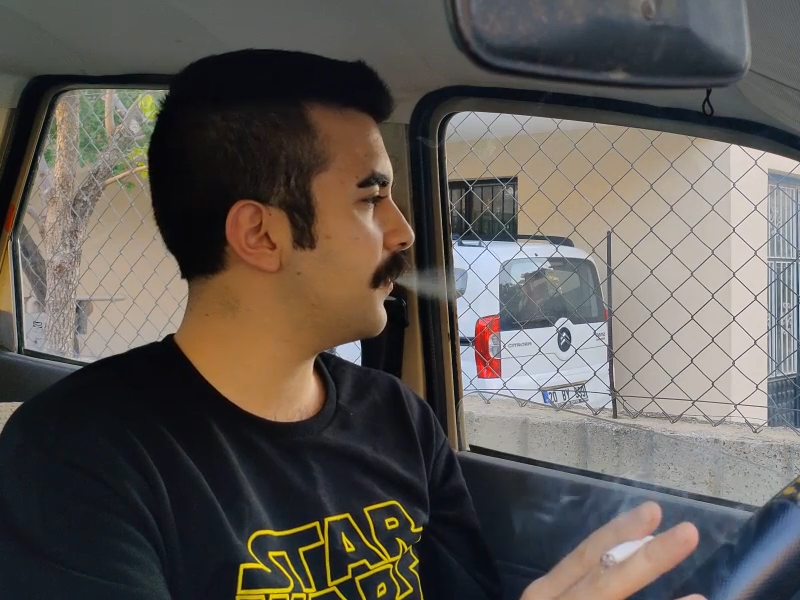sigara: (592, 522, 665, 574)
